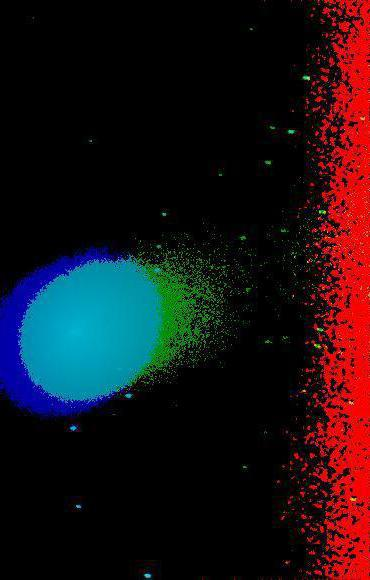star: (128, 74, 158, 104)
